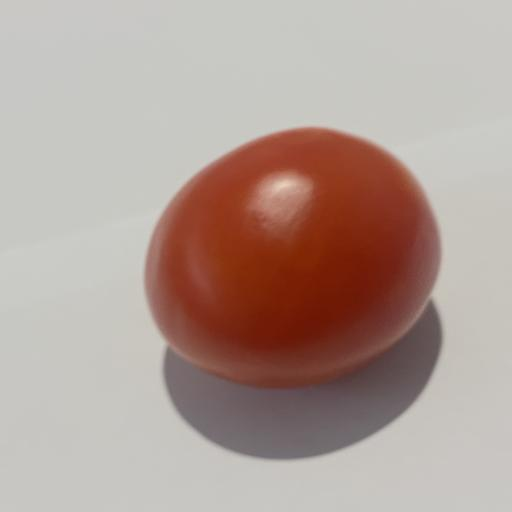ripe: (146, 128, 440, 387)
